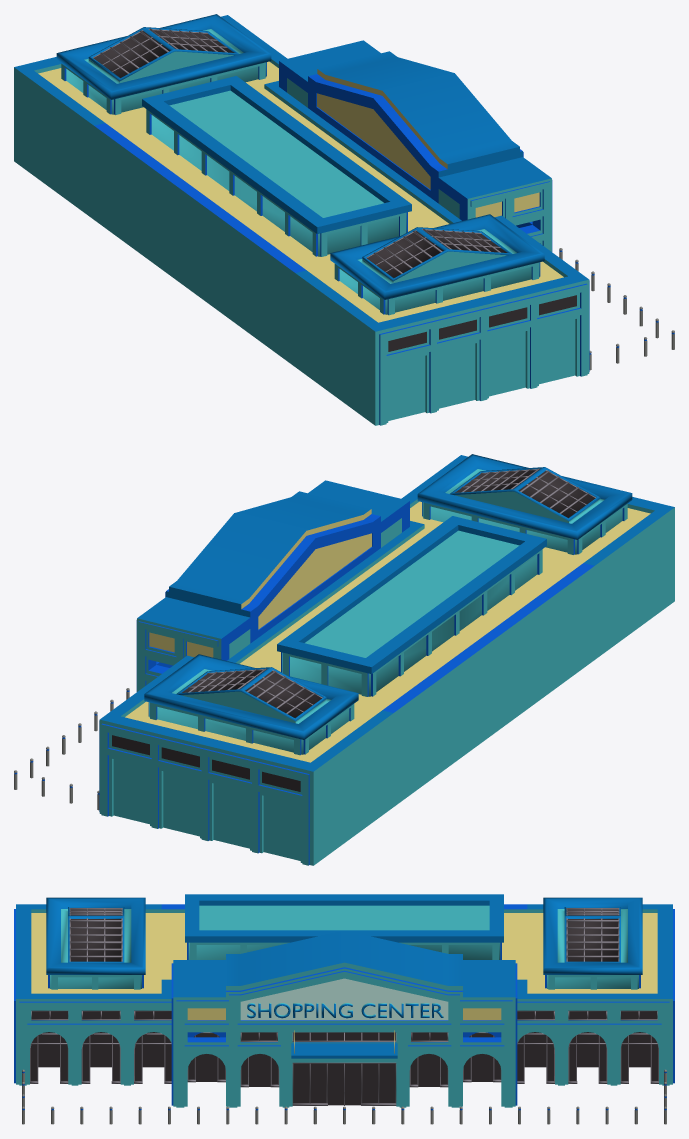
The model's file is SM_Building_ShoppingCenter.fbx.
3 views of the same model, one above another, from view 1: azimuth 30°, elevation 25°; view 2: azimuth 150°, elevation 25°; view 3: azimuth 270°, elevation 25° (orthographic). The views are drawn at different scales.
Parts seen in each view (by area): view 1: ShoppingCenterBuilding; view 2: ShoppingCenterBuilding; view 3: ShoppingCenterBuilding.
Boxes of the visible parts, x1=… form: ShoppingCenterBuilding: x1=14, y1=14, x2=674, y2=425; ShoppingCenterBuilding: x1=14, y1=454, x2=674, y2=865; ShoppingCenterBuilding: x1=14, y1=894, x2=674, y2=1124.
Size of the model in its own units: 872 by 431 by 1811.
1 material, 1 textured.
